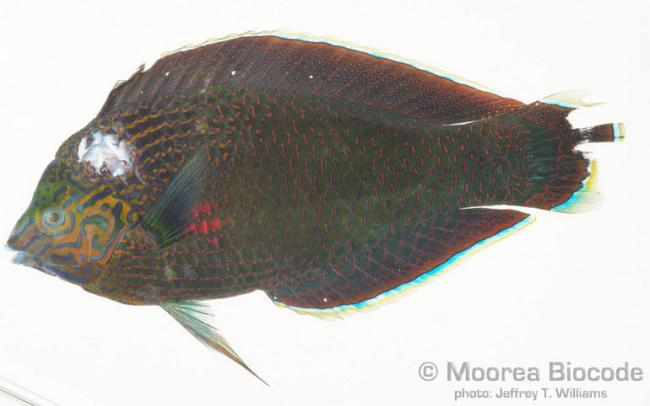fish: (5, 28, 627, 386)
